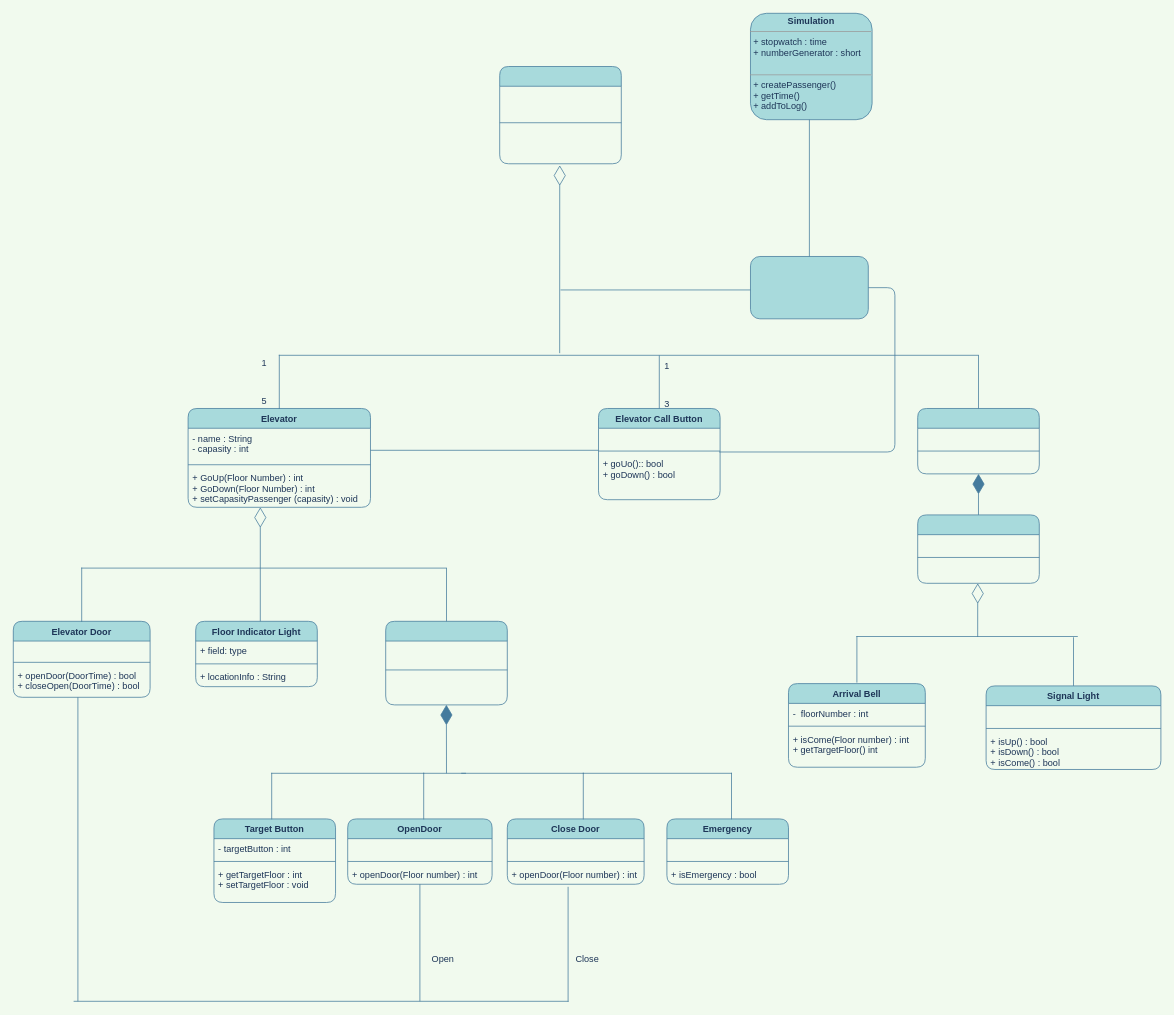
The diagram is 1174 pixels wide and 1015 high, and some of its shapes have lost their labels. The centre of each missing label's shape, as x and y in pixels:
"Control Panel" goes at point (446, 663).
"Elevator Gap" goes at point (978, 441).
"Elevator Gap Door" goes at point (978, 548).
"Floor" goes at point (560, 115).
"Passenger" goes at point (809, 287).
